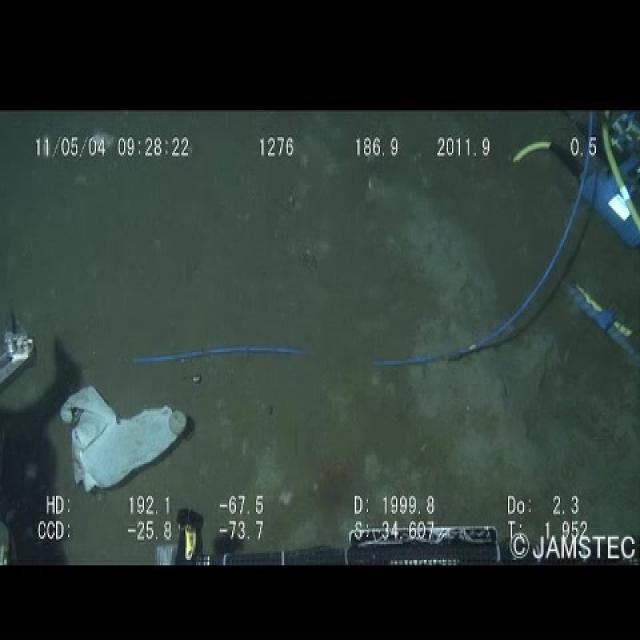plastic: (52, 380, 200, 496)
